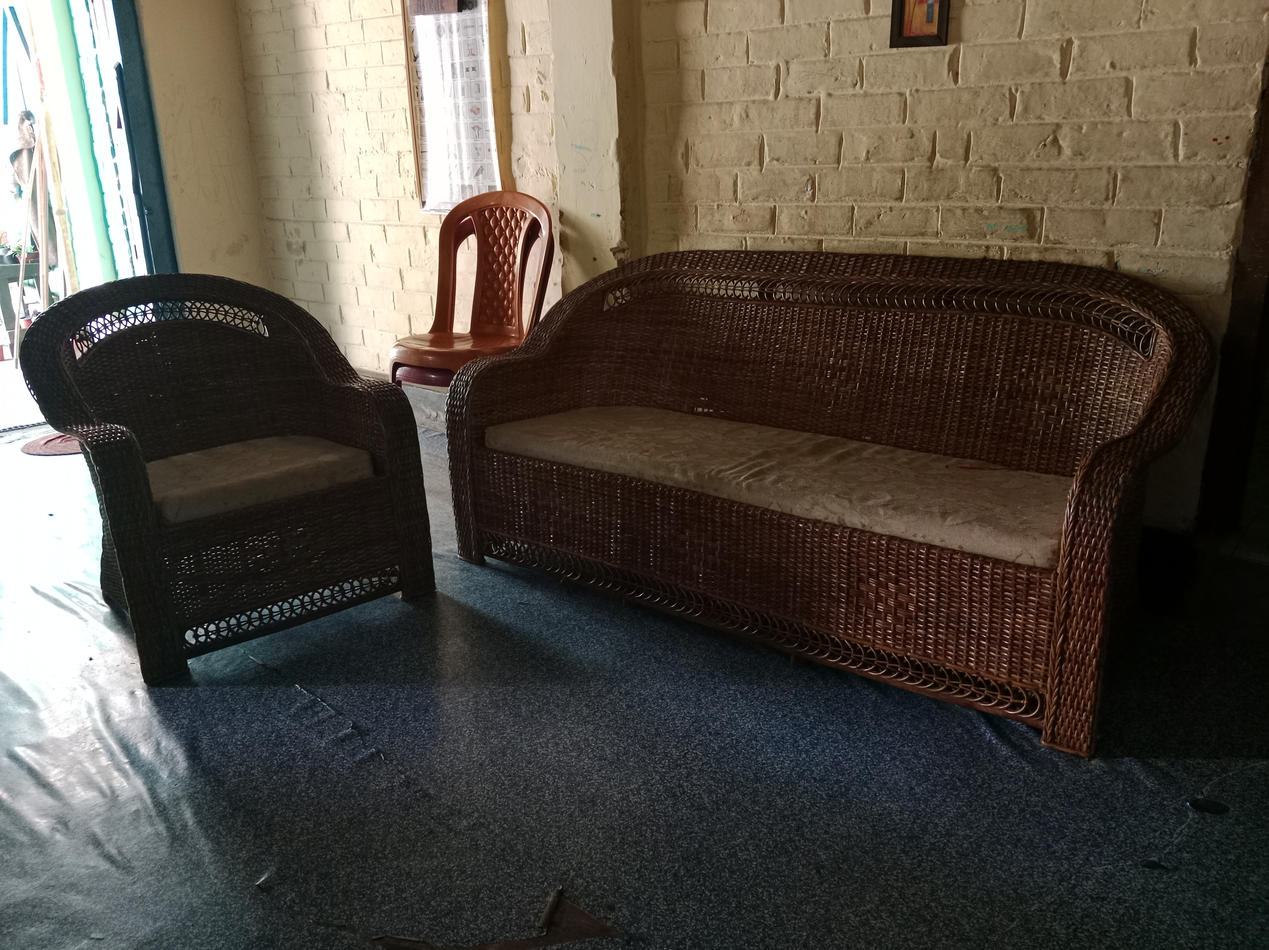sofa: (449, 251, 1207, 770), (22, 273, 439, 684)
